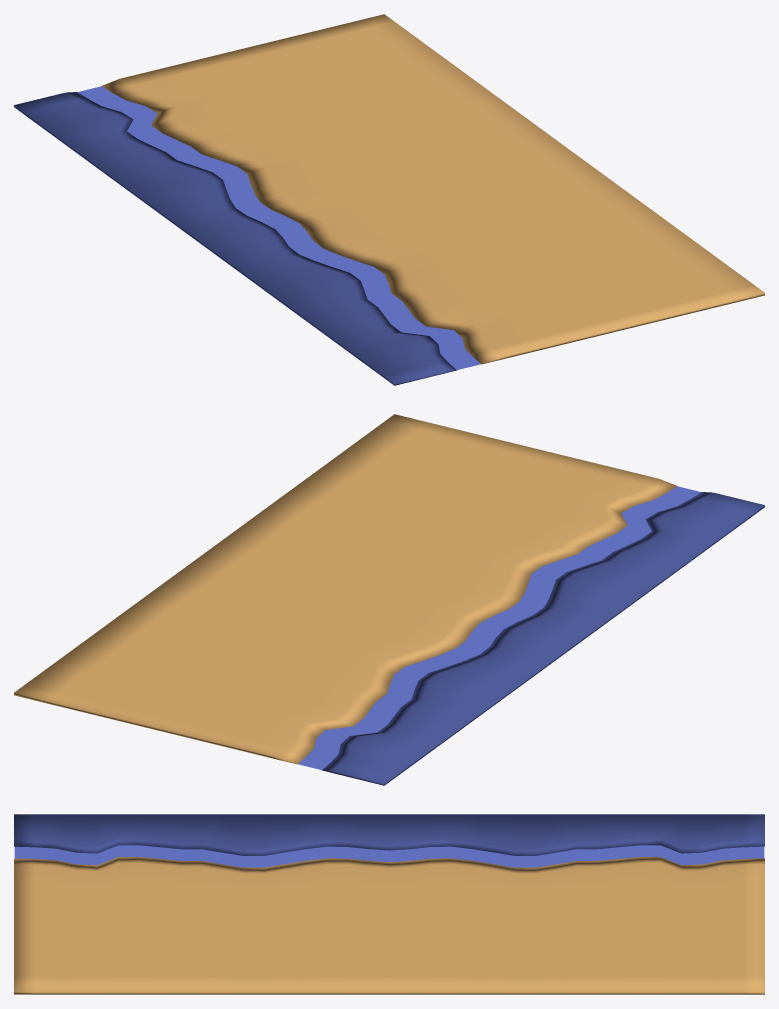
The model's file is beach_floor.glb.
3 renders of one model, top to bottom at view 1: azimuth 30°, elevation 25°; view 2: azimuth 150°, elevation 25°; view 3: azimuth 270°, elevation 25°, orthographic.
Parts seen in each view (by area): view 1: beach; view 2: beach; view 3: beach.
Boxes of the visible parts, x1=… form: beach: x1=14, y1=14, x2=764, y2=385; beach: x1=14, y1=414, x2=764, y2=785; beach: x1=14, y1=814, x2=764, y2=994.
Size of the model in its own units: 67.73 by 0.4712 by 121.
